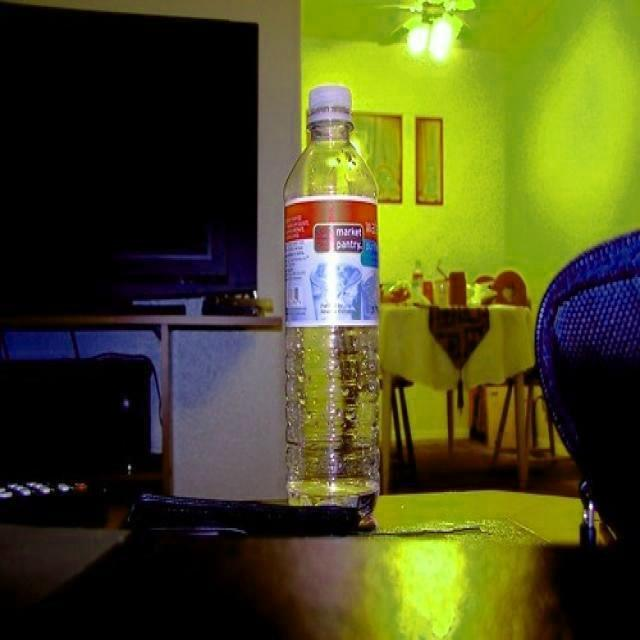bottle: (283, 86, 381, 515)
